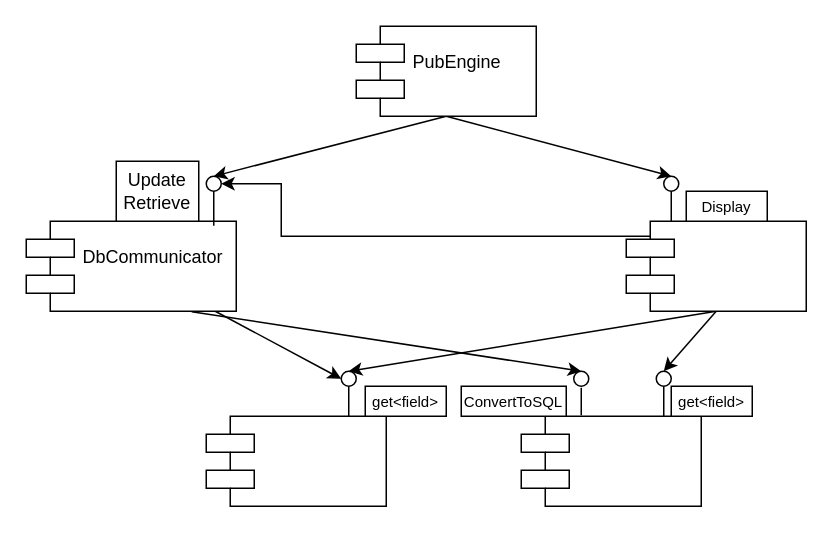
This 833x533 diagram has some shape labels left out. Here are the shapes that lost their labels. From the top down, the centre of each, then its label:
At (715,265): "UserInterface".
At (295,460): "Town".
At (610,460): "Pub".
